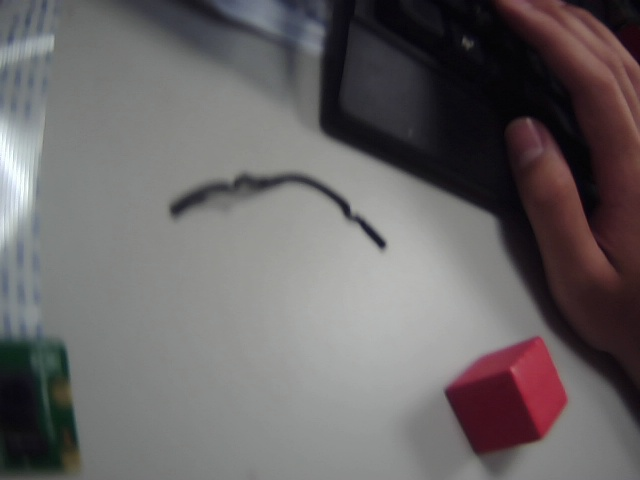redbox: (441, 331, 578, 464)
